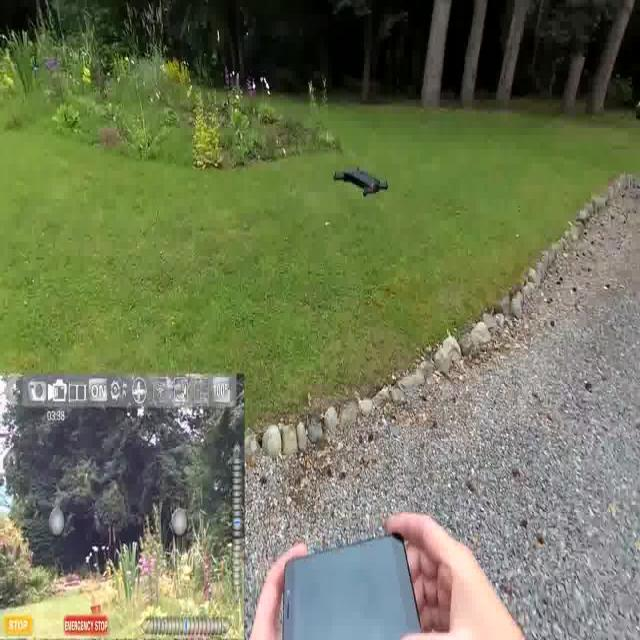drone: (329, 156, 392, 204)
